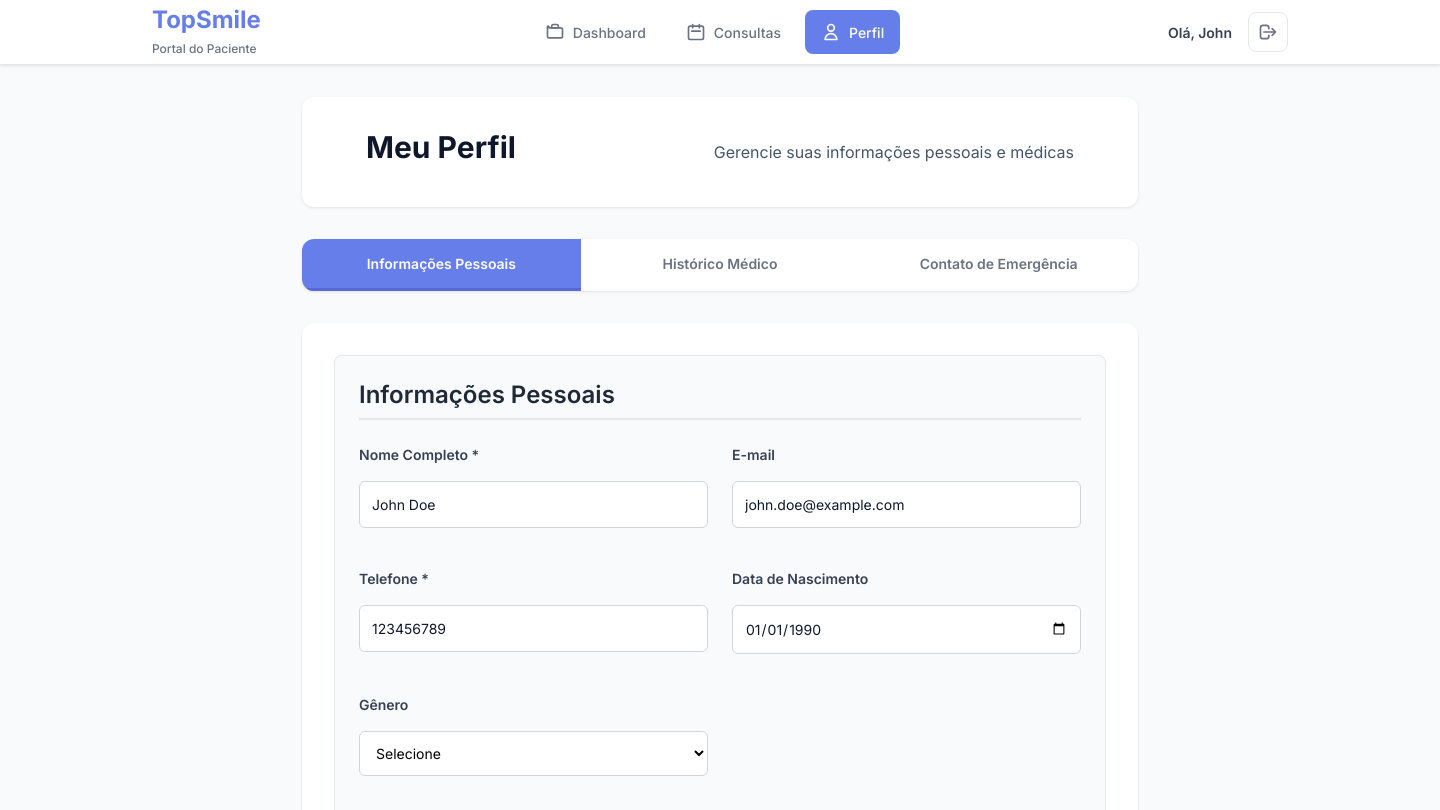
Test: PatientProfile › switches between tabs
Expected: the field labelled "Nome Completo *" is shown, x1=359 y1=480 x2=708 y2=528
Click the button "Histórico Médico" at {"x": 720, "y": 264}, box x1=581 y1=238 x2=859 y2=290
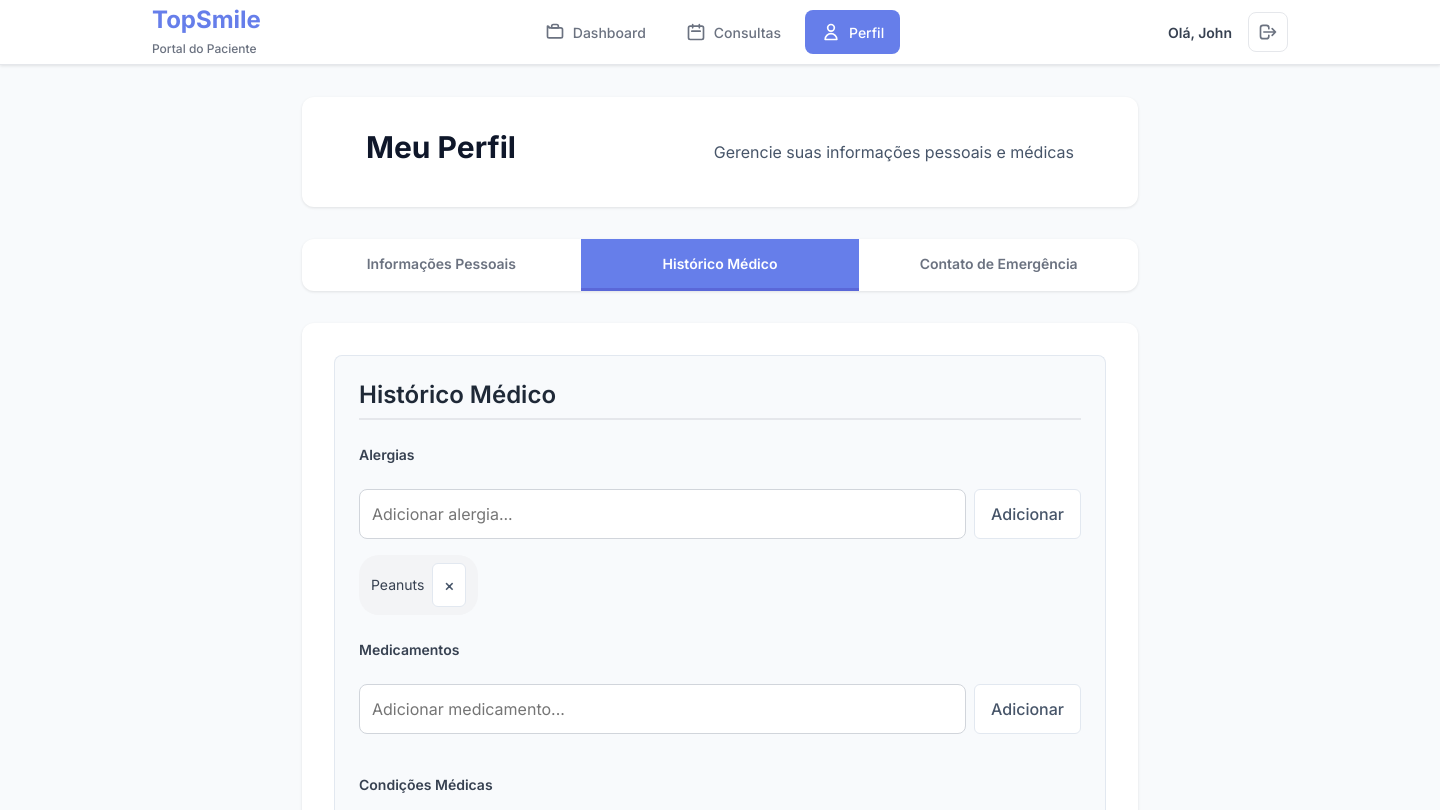
Now the text "Alergias" is shown, box x1=359 y1=446 x2=414 y2=462
Click the button "Contato de Emergência" at {"x": 999, "y": 264}, box x1=859 y1=238 x2=1138 y2=290
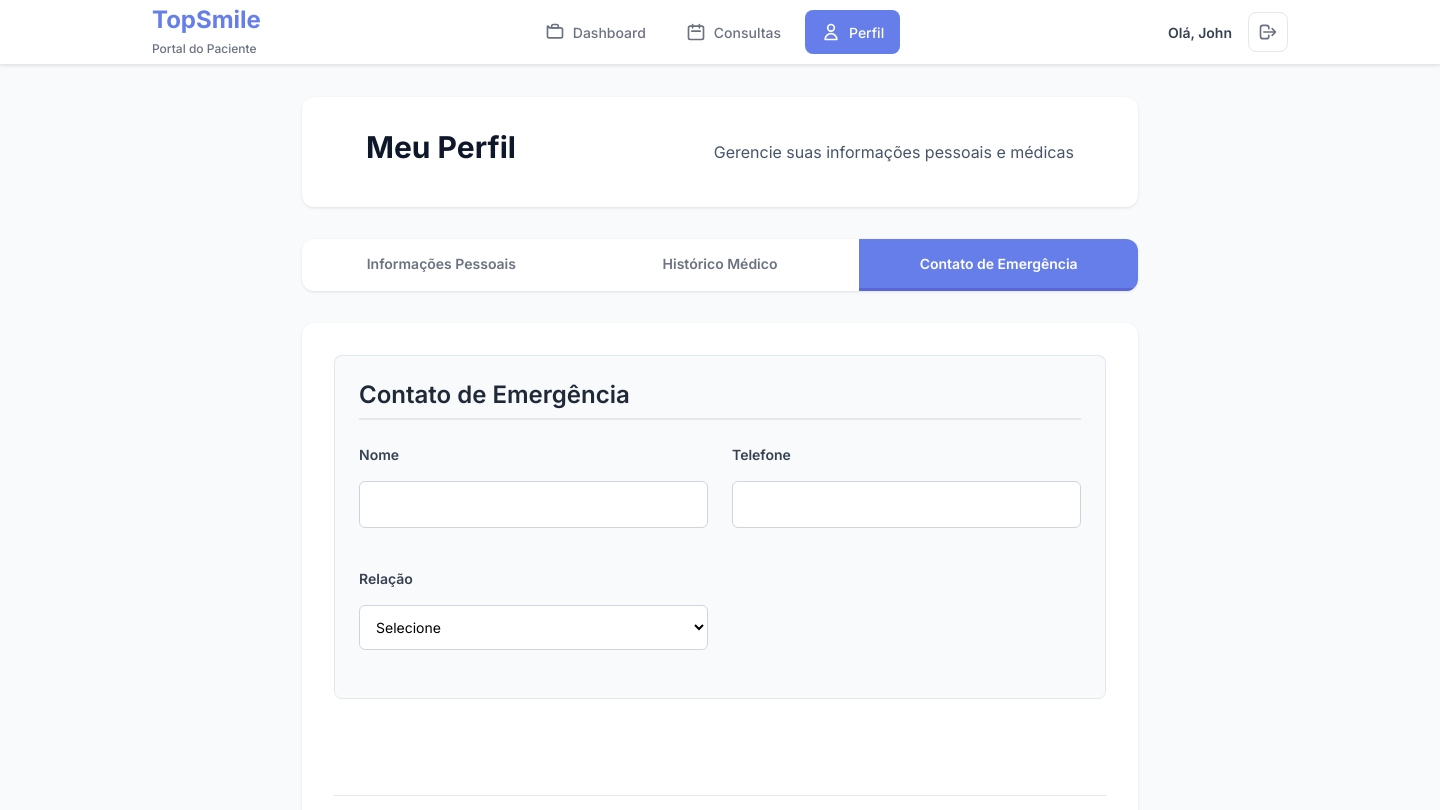
Now the field labelled "Nome" is shown, box x1=359 y1=480 x2=708 y2=528
